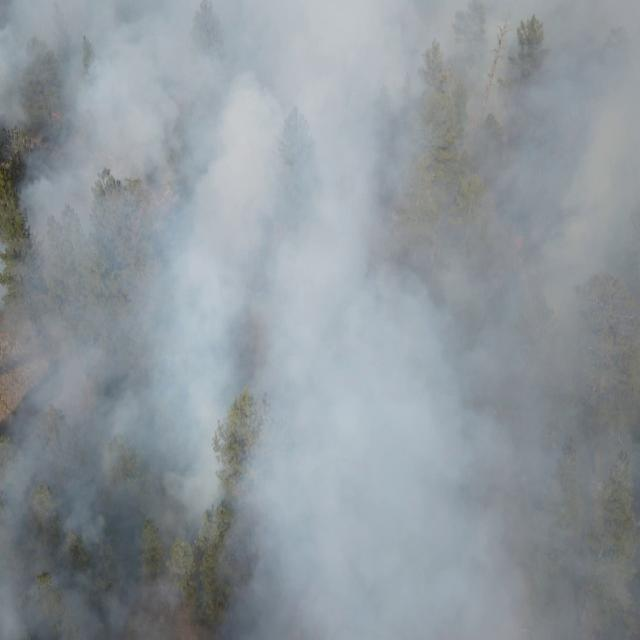fire: (510, 232, 528, 248), (46, 106, 66, 119)
smoke: (0, 0, 640, 640)
